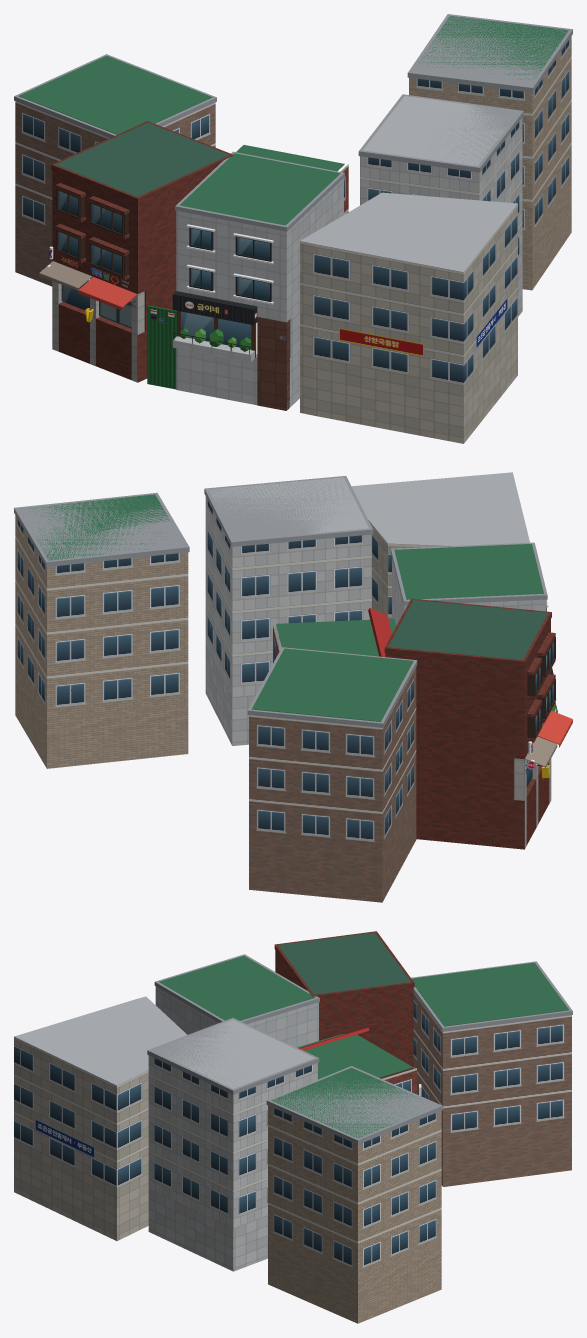
The model's file is place_금이네.glb.
3 views of the same model, one above another, from view 1: azimuth 30°, elevation 25°; view 2: azimuth 150°, elevation 25°; view 3: azimuth 270°, elevation 25° (orthographic). The views are drawn at different scales.
Visible parts, largest first — view 1: Light_B6_88_CornerCommercial, Merged_Light_Parapet, Light_B6_88_Basement_B1, Merged_B4_RedFlutedBrick, Merged_Light_B10_1438, Merged_B5_Granite, Merged_Light_GreenRoof, Merged_Light_B7_921, Merged_Light_B9_14314, Merged_B5_Roof, Merged_Light_GreyRoofBox, Merged_B4_Roof (+25 smaller); view 2: Merged_Light_B10_1438, Merged_Light_B7_921, Merged_Light_B9_14314, Merged_Light_Parapet, Merged_B4_RedFlutedBrick, Light_B6_88_CornerCommercial, Merged_Light_GreenRoof, Merged_Light_B10_B1, Merged_Light_B7_B1, Merged_B5_Roof, Merged_B4_Roof, Merged_B4_Basement_Brick (+11 smaller); view 3: Merged_Light_B10_1438, Light_B6_88_CornerCommercial, Merged_Light_B7_921, Merged_Light_B9_14314, Merged_Light_Parapet, Merged_Light_GreenRoof, Merged_Light_B10_B1, Light_B6_88_Basement_B1, Merged_Light_B7_B1, Merged_B5_Roof, Merged_Light_GreyRoofBox, Merged_B4_Roof (+8 smaller).
Part boxes in pixels (left/top/right/bottom): Light_B6_88_CornerCommercial: left=300, top=192, right=517, bottom=396; Merged_Light_Parapet: left=14, top=14, right=572, bottom=172; Light_B6_88_Basement_B1: left=300, top=328, right=517, bottom=443; Merged_B4_RedFlutedBrick: left=52, top=168, right=214, bottom=331; Merged_Light_B10_1438: left=409, top=36, right=571, bottom=242; Merged_B5_Granite: left=176, top=178, right=343, bottom=358; Merged_Light_GreenRoof: left=19, top=55, right=344, bottom=171; Merged_Light_B7_921: left=15, top=101, right=215, bottom=238; Merged_Light_B9_14314: left=360, top=117, right=522, bottom=269; Merged_B5_Roof: left=179, top=153, right=340, bottom=225; Merged_Light_GreyRoofBox: left=363, top=96, right=510, bottom=166; Merged_B4_Roof: left=56, top=122, right=229, bottom=196; Merged_Light_B10_1438: left=15, top=515, right=188, bottom=720; Merged_Light_B7_921: left=249, top=667, right=416, bottom=853; Merged_Light_B9_14314: left=205, top=496, right=371, bottom=697; Merged_Light_Parapet: left=14, top=476, right=417, bottom=727; Merged_B4_RedFlutedBrick: left=385, top=619, right=555, bottom=799; Light_B6_88_CornerCommercial: left=351, top=472, right=529, bottom=618; Merged_Light_GreenRoof: left=251, top=618, right=413, bottom=721; Merged_Light_B10_B1: left=15, top=667, right=188, bottom=768; Merged_Light_B7_B1: left=249, top=792, right=416, bottom=902; Merged_B5_Roof: left=394, top=544, right=543, bottom=599; Merged_B4_Roof: left=388, top=600, right=547, bottom=659; Merged_B4_Basement_Brick: left=416, top=762, right=549, bottom=849; Merged_Light_B10_1438: left=268, top=1105, right=441, bottom=1280; Light_B6_88_CornerCommercial: left=14, top=996, right=186, bottom=1197; Merged_Light_B7_921: left=413, top=993, right=571, bottom=1143; Merged_Light_B9_14314: left=148, top=1055, right=317, bottom=1228; Merged_Light_Parapet: left=147, top=961, right=572, bottom=1144; Merged_Light_GreenRoof: left=297, top=962, right=568, bottom=1079; Merged_Light_B10_B1: left=268, top=1241, right=441, bottom=1323; Light_B6_88_Basement_B1: left=14, top=1149, right=148, bottom=1240; Merged_Light_B7_B1: left=441, top=1127, right=571, bottom=1186; Merged_B5_Roof: left=159, top=956, right=315, bottom=1020; Merged_Light_GreyRoofBox: left=158, top=1019, right=314, bottom=1088; Merged_B4_Roof: left=278, top=932, right=410, bottom=994.
Size of the model in its own units: 41.75 by 15.36 by 42.32.
Materials: 52 (32 with a texture image).
